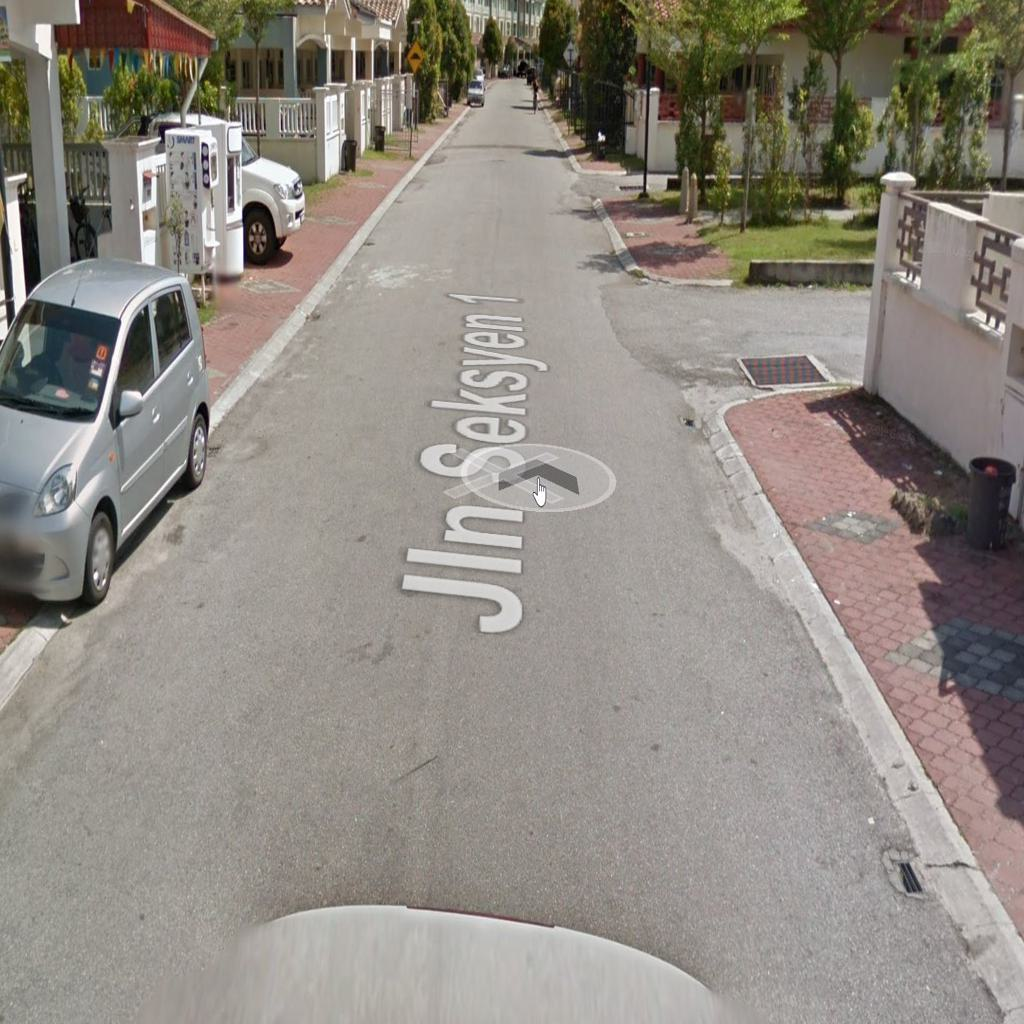Junction: (602, 246, 860, 432)
